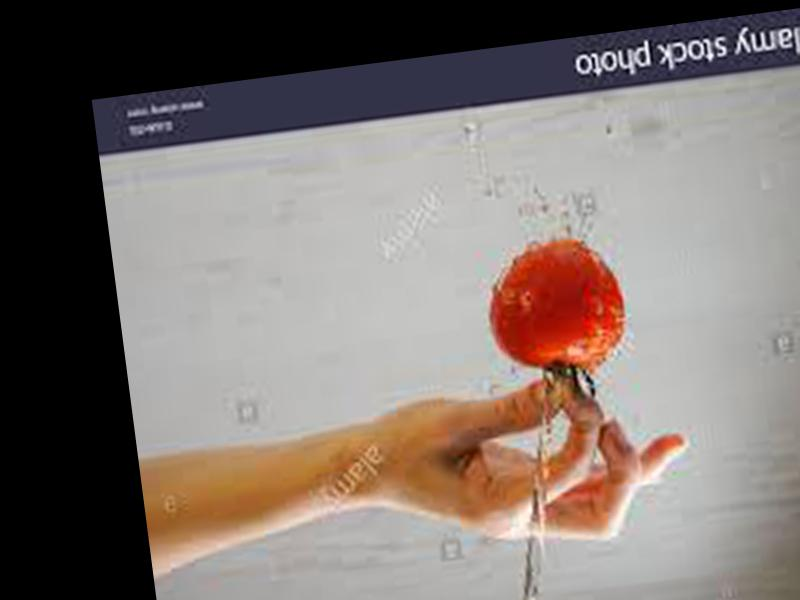Tomato: (476, 230, 626, 378)
